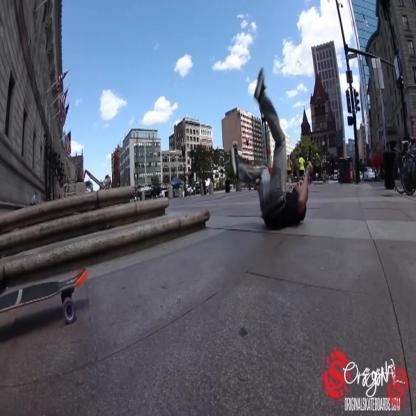Fall_Down: (230, 63, 314, 233)
